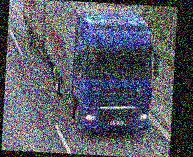truck: (16, 0, 163, 139)
